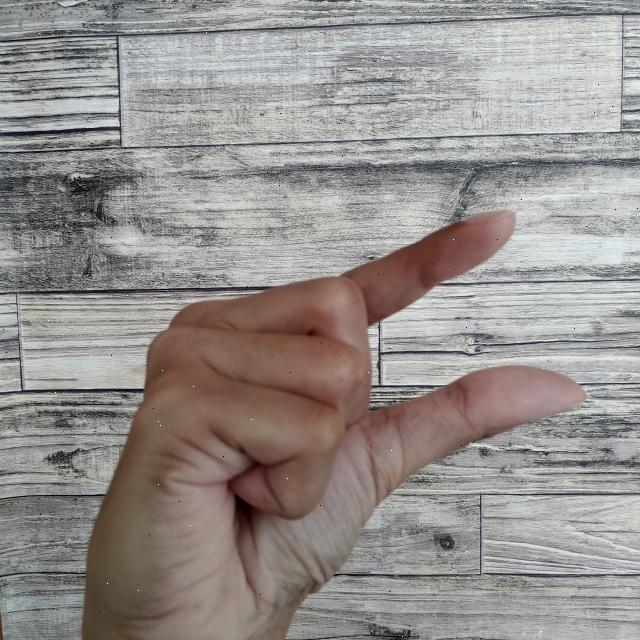G: (81, 205, 592, 640)
